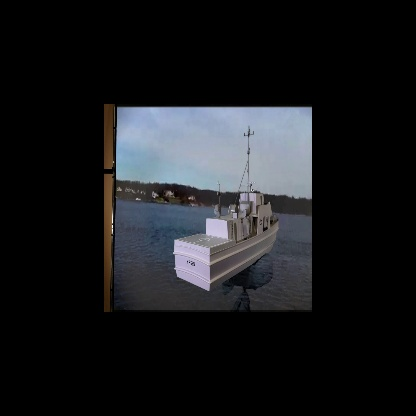YP689: (170, 127, 286, 291)
